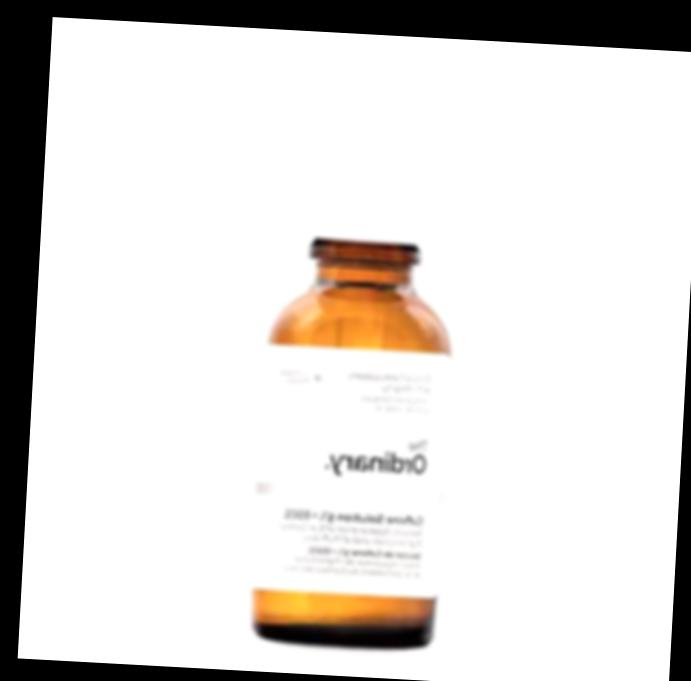cosmetic: (247, 57, 470, 648)
